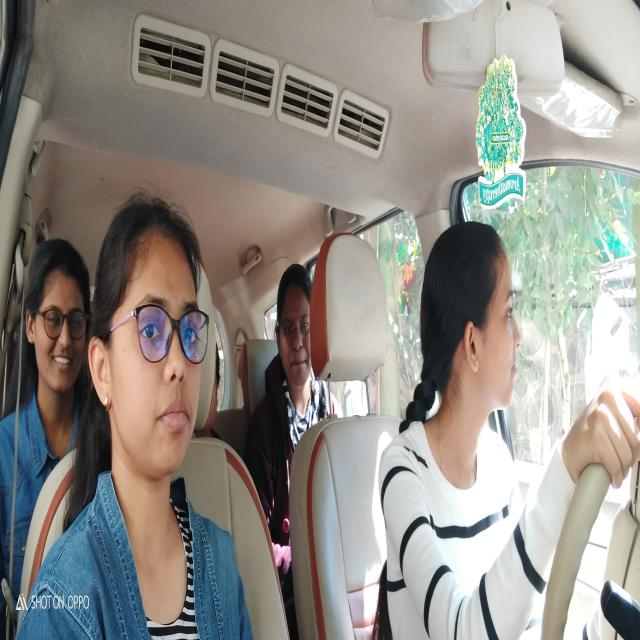LeftRight: (450, 227, 521, 418)
person: (113, 211, 203, 477), (30, 249, 84, 395), (275, 262, 316, 394)
